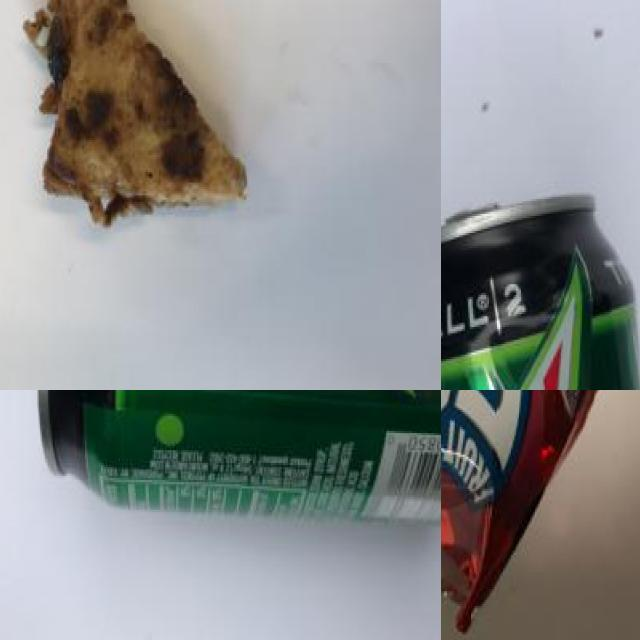compost: (12, 0, 263, 237)
plastic: (23, 390, 441, 529), (441, 190, 640, 390)
trash: (441, 390, 635, 619)
